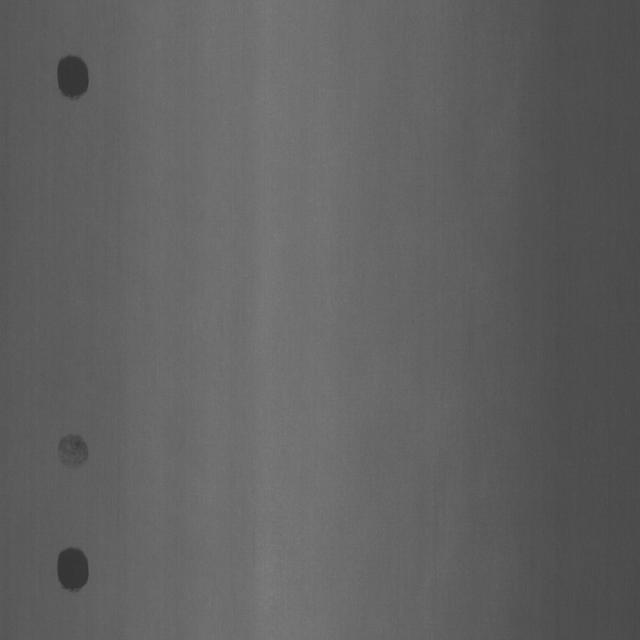welding_line: (54, 46, 92, 104), (52, 540, 90, 595), (56, 428, 90, 470)
